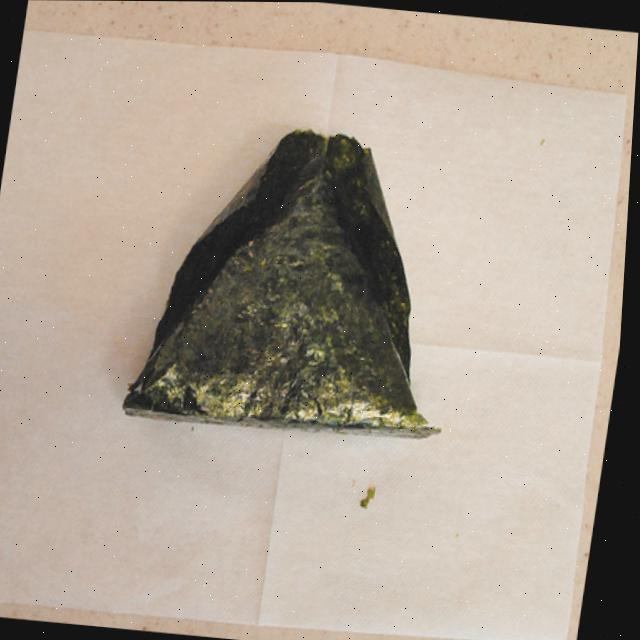米饭主食: (112, 89, 499, 454)
